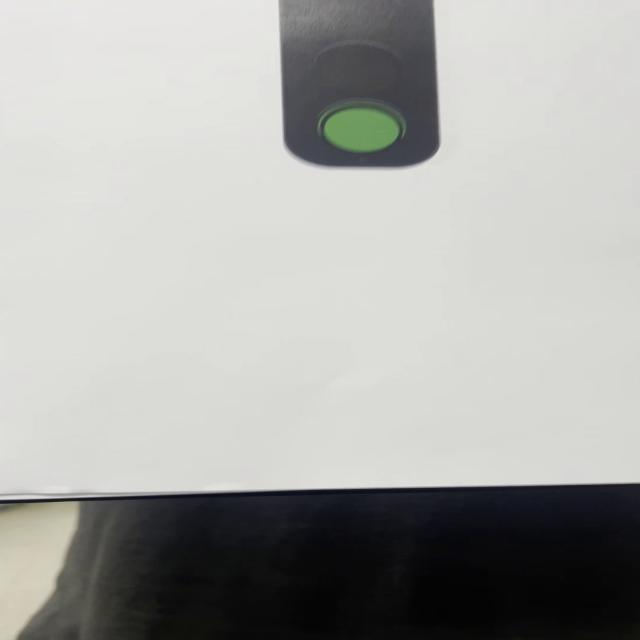green: (278, 2, 433, 167)
